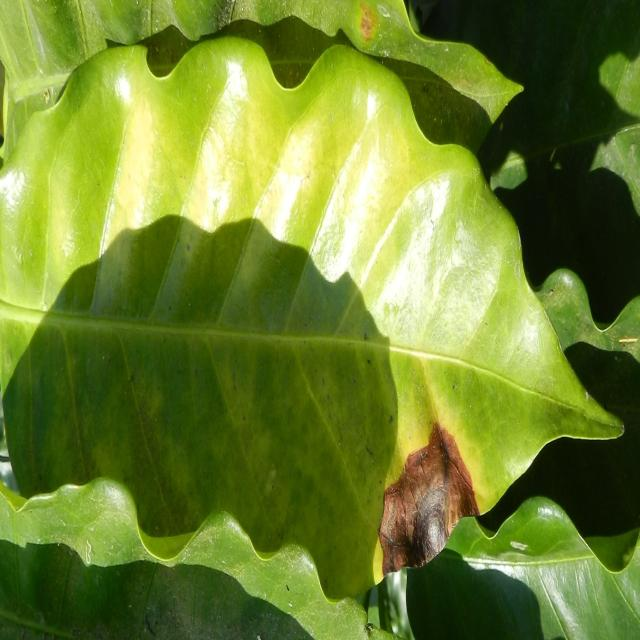Enfermedad-Mancha-de-hierro: (0, 36, 624, 600)
